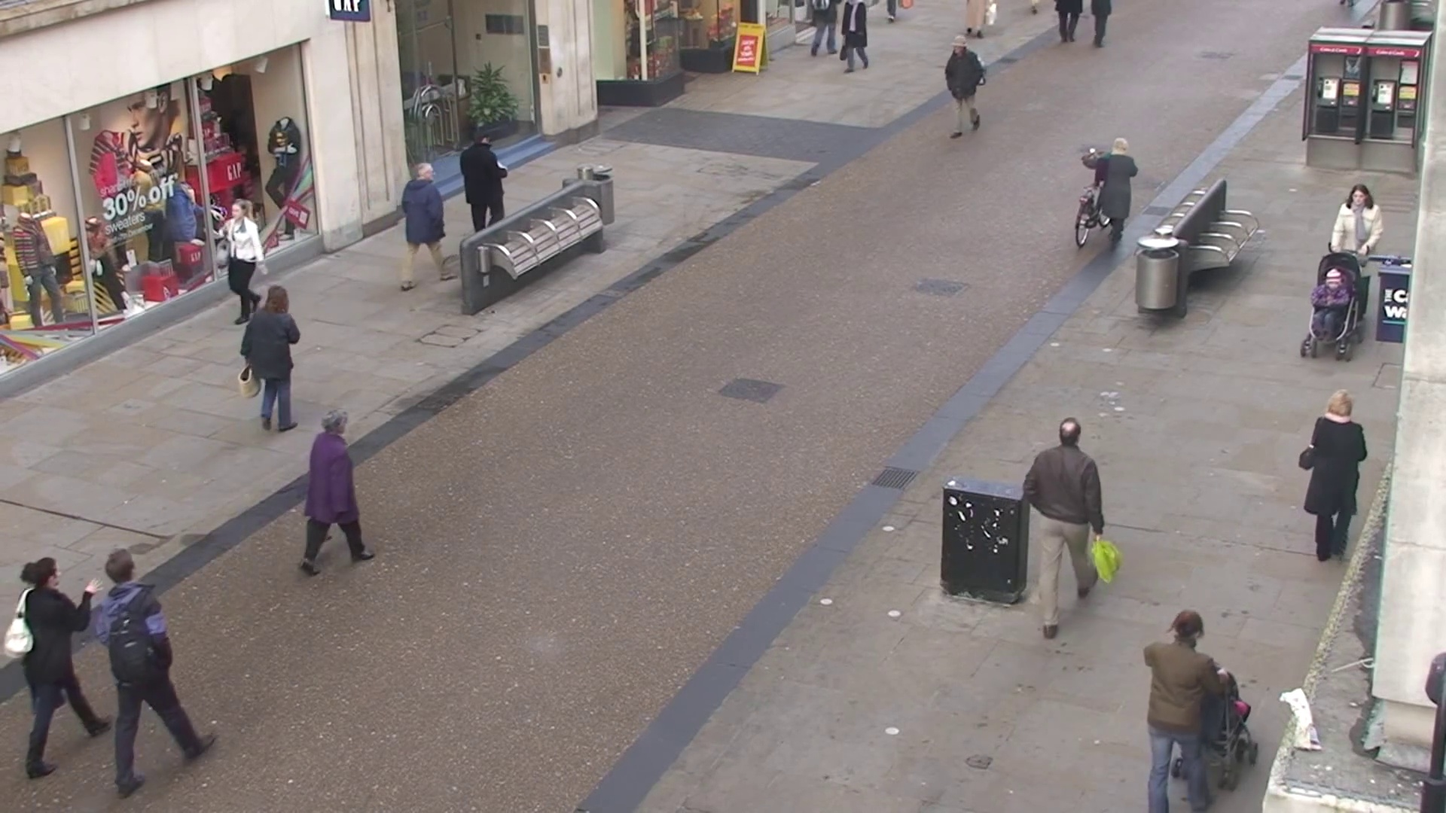person: (82, 549, 212, 796), (13, 556, 106, 779), (1020, 417, 1108, 641), (1142, 610, 1234, 810), (1298, 389, 1370, 565), (299, 410, 375, 576), (240, 285, 302, 435), (397, 159, 447, 291), (223, 199, 265, 327), (1087, 136, 1140, 236), (460, 131, 508, 236), (944, 35, 986, 138), (1330, 183, 1382, 255), (840, 1, 871, 72)
